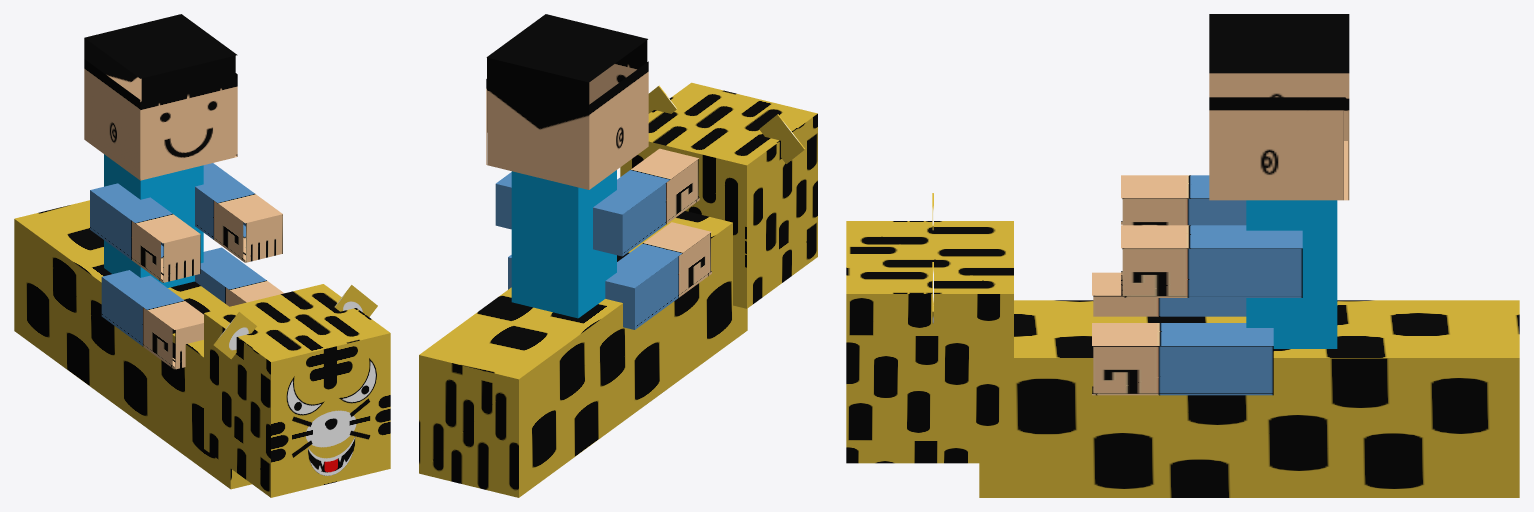
Rendered from TigerB.FBX.
3 renders of one model, left to right at view 1: azimuth 30°, elevation 25°; view 2: azimuth 150°, elevation 25°; view 3: azimuth 270°, elevation 25°, orthographic. The views are drawn at different scales.
Parts seen in each view (by area): view 1: Face, TigerBody, Head, RightHand, RightLeg, LeftHand, HumanBody, LeftLeg, Leftyear, Rightyear; view 2: TigerBody, Head, Face, HumanBody, RightHand, RightLeg, Leftyear, LeftHand, Rightyear; view 3: TigerBody, Face, Head, LeftLeg, LeftHand, HumanBody, RightHand, RightLeg.
Boxes of the visible parts, x1,y1,x2,y2 form: Face: [204, 284, 390, 497]; TigerBody: [14, 200, 251, 489]; Head: [84, 14, 237, 180]; RightHand: [90, 183, 200, 282]; RightLeg: [101, 270, 203, 369]; LeftHand: [195, 163, 282, 262]; HumanBody: [104, 154, 203, 287]; LeftLeg: [195, 247, 283, 306]; Leftyear: [213, 312, 256, 359]; Rightyear: [334, 285, 377, 316]; TigerBody: [419, 211, 747, 497]; Head: [486, 14, 648, 189]; Face: [620, 82, 817, 308]; HumanBody: [511, 170, 616, 318]; RightHand: [593, 148, 699, 256]; RightLeg: [605, 222, 711, 329]; Leftyear: [759, 114, 804, 163]; LeftHand: [495, 172, 511, 229]; Rightyear: [648, 85, 676, 113]; TigerBody: [979, 300, 1519, 497]; Face: [846, 221, 1013, 463]; Head: [1209, 14, 1349, 200]; LeftLeg: [1092, 323, 1273, 395]; LeftHand: [1121, 225, 1302, 297]; HumanBody: [1246, 200, 1337, 348]; RightHand: [1121, 175, 1246, 225]; RightLeg: [1092, 272, 1246, 316].
Bounding box in the file's own units: 1.3 × 2.6 × 3.7.
Materials: 6 (6 with a texture image).
